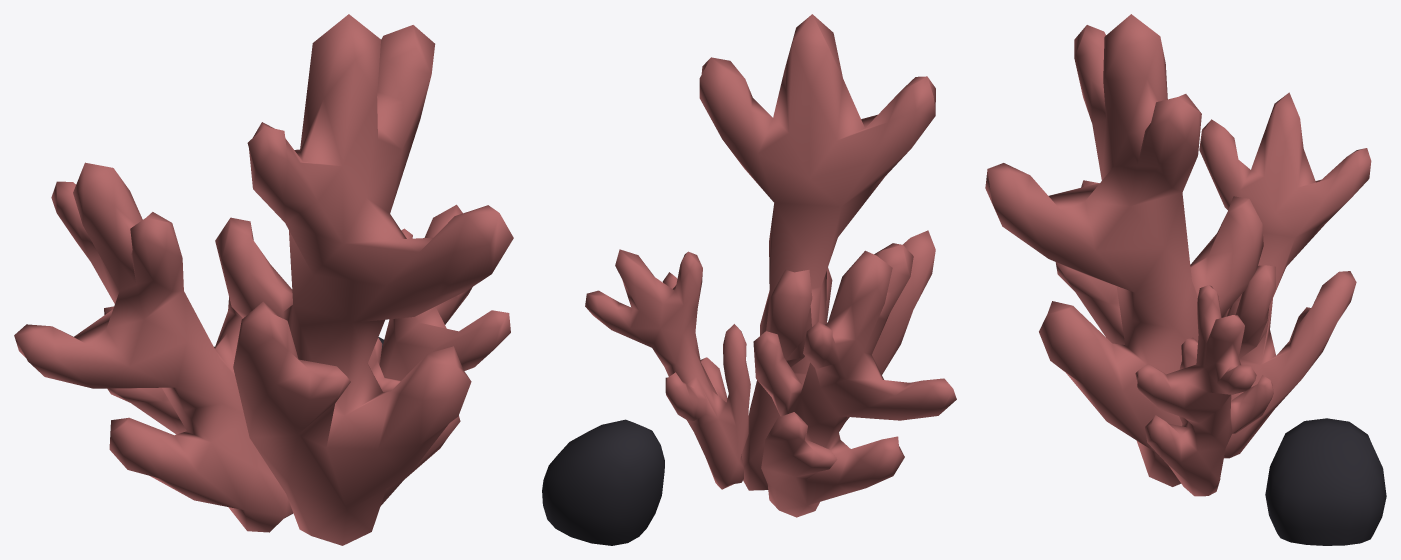
File: singleredcoral.glb
The picture shows the model from 3 angles, left to right: view 1: azimuth 30°, elevation 25°; view 2: azimuth 150°, elevation 25°; view 3: azimuth 270°, elevation 25°; orthographic projection. The views are drawn at different scales.
Visible parts, largest first — view 1: Coral.005; view 2: Coral.005, Rock 3.001; view 3: Coral.005, Rock 3.001.
Part boxes in pixels (box(x1,y1,x2,y2)): Coral.005: box(14, 14, 513, 545); Coral.005: box(585, 14, 956, 517); Rock 3.001: box(542, 419, 664, 545); Coral.005: box(985, 14, 1371, 496); Rock 3.001: box(1265, 418, 1386, 545).
Size of the model in its own units: 2.79 by 3.28 by 2.54.
